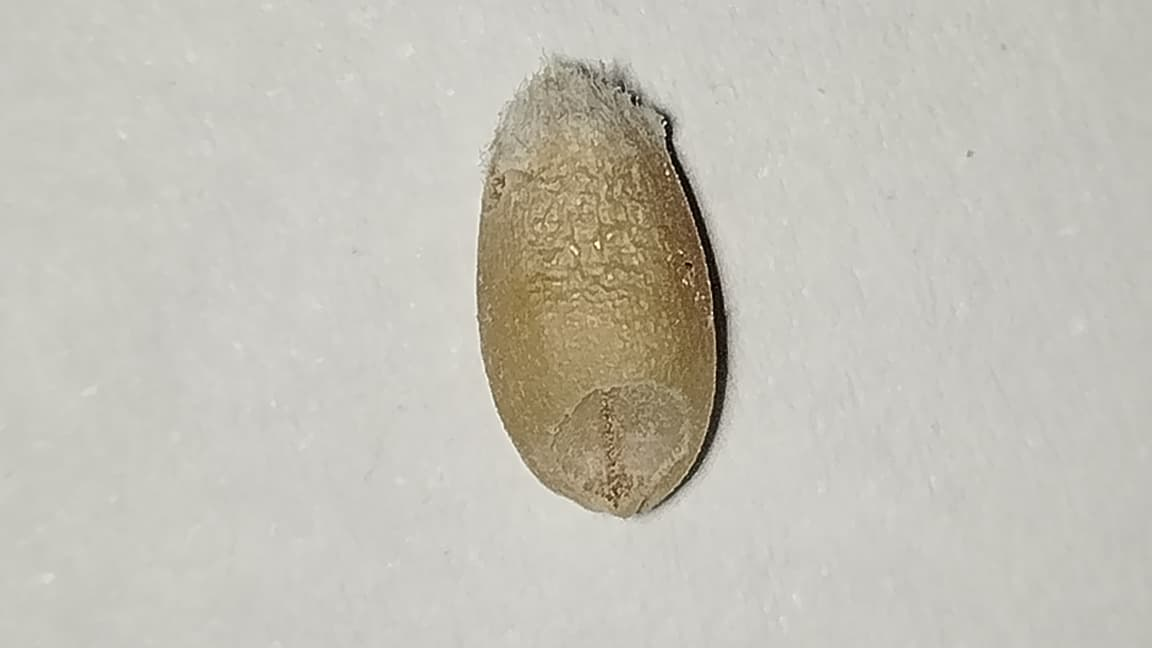damage: (476, 58, 721, 516)
insectdamage: (528, 380, 723, 519)
